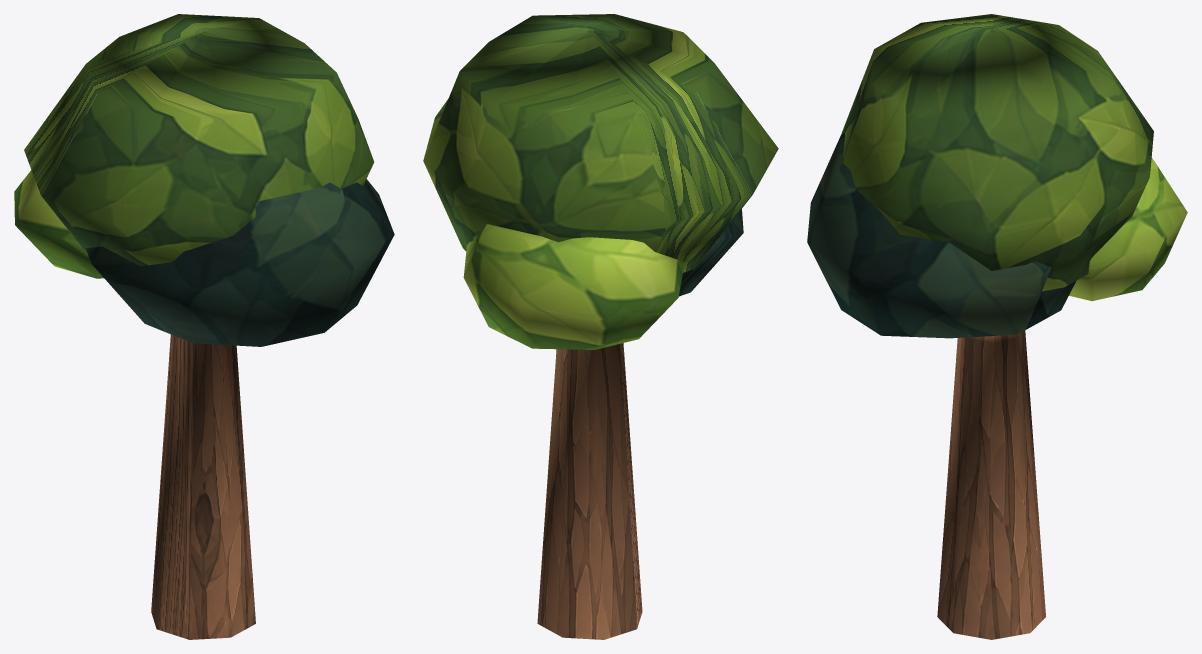
The model's file is tree_lime_round.obj.
The picture shows the model from 3 angles, left to right: view 1: azimuth 30°, elevation 25°; view 2: azimuth 150°, elevation 25°; view 3: azimuth 270°, elevation 25°; orthographic projection.
Visible parts, largest first — view 1: tree_lime_round; view 2: tree_lime_round; view 3: tree_lime_round.
Part boxes in pixels (x1=…): tree_lime_round: x1=14, y1=14, x2=394, y2=639; tree_lime_round: x1=423, y1=14, x2=778, y2=639; tree_lime_round: x1=807, y1=14, x2=1187, y2=639.
Size of the model in its own units: 0.8772 by 1.55 by 0.9102.
4 materials, 4 textured.
